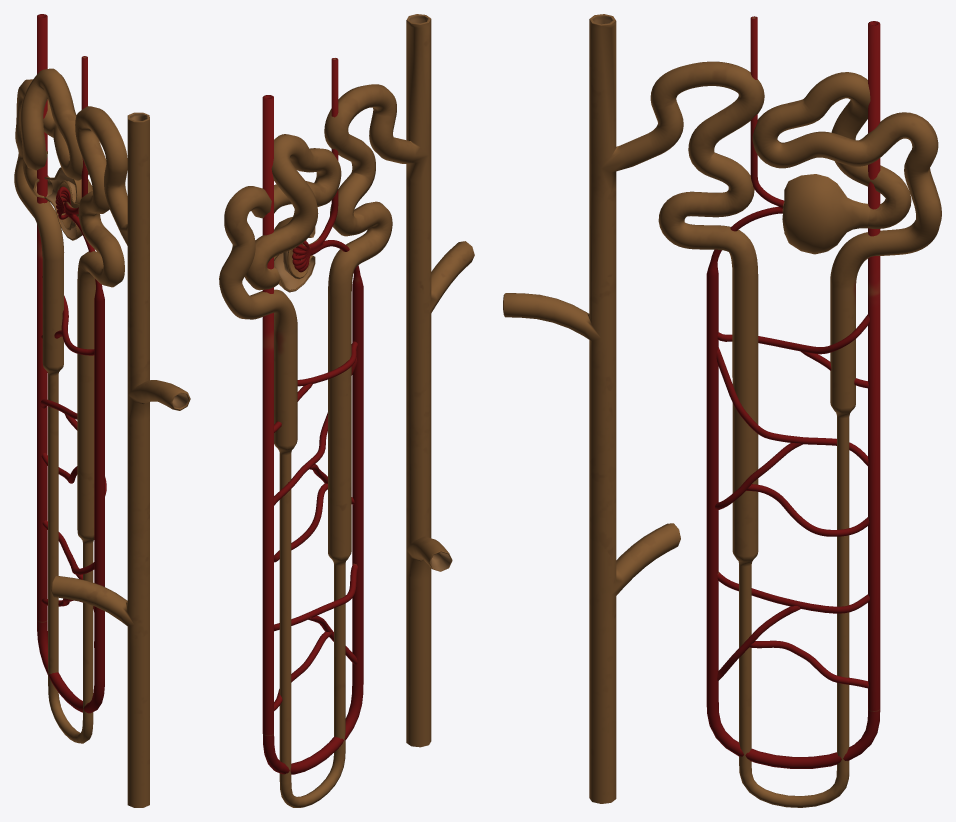
The model's file is Nefrona_15.glb.
3 views of the same model, side by side, from view 1: azimuth 30°, elevation 25°; view 2: azimuth 150°, elevation 25°; view 3: azimuth 270°, elevation 25° (orthographic). The views are drawn at different scales.
Parts seen in each view (by area): view 1: nefrona; view 2: nefrona; view 3: nefrona.
Part boxes in pixels (x1=…): nefrona: x1=14, y1=14, x2=190, y2=807; nefrona: x1=219, y1=14, x2=474, y2=807; nefrona: x1=503, y1=14, x2=941, y2=807.
Size of the model in its own units: 0.2388 by 1.48 by 0.75.
1 material, 1 textured.
